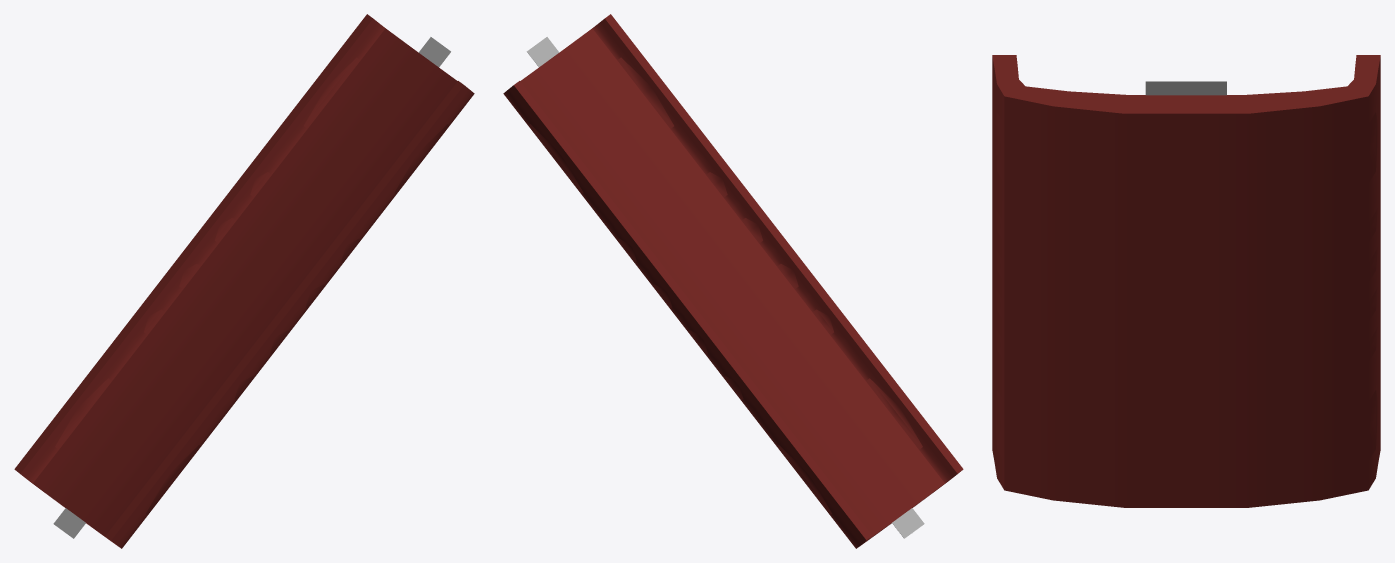
File: Straight45Up.fbx
3 views of the same model, side by side, from view 1: azimuth 30°, elevation 25°; view 2: azimuth 150°, elevation 25°; view 3: azimuth 270°, elevation 25° (orthographic). The views are drawn at different scales.
Parts seen in each view (by area): view 1: pPipe3; view 2: pPipe3; view 3: pPipe3, pasted__pasted__pCube38.
Boxes of the visible parts, left/top/right/bottom form: pPipe3: left=14, top=14, right=474, bottom=548; pPipe3: left=503, top=14, right=963, bottom=548; pPipe3: left=992, top=55, right=1380, bottom=507; pasted__pasted__pCube38: left=1145, top=81, right=1226, bottom=95.
Bounding box in the file's own units: 21.45 × 21.45 × 9.54.
